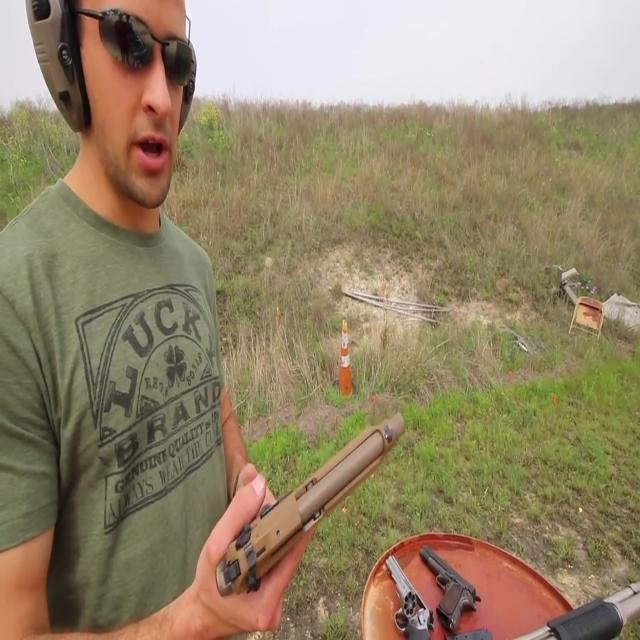Weapon: (200, 380, 523, 640)
